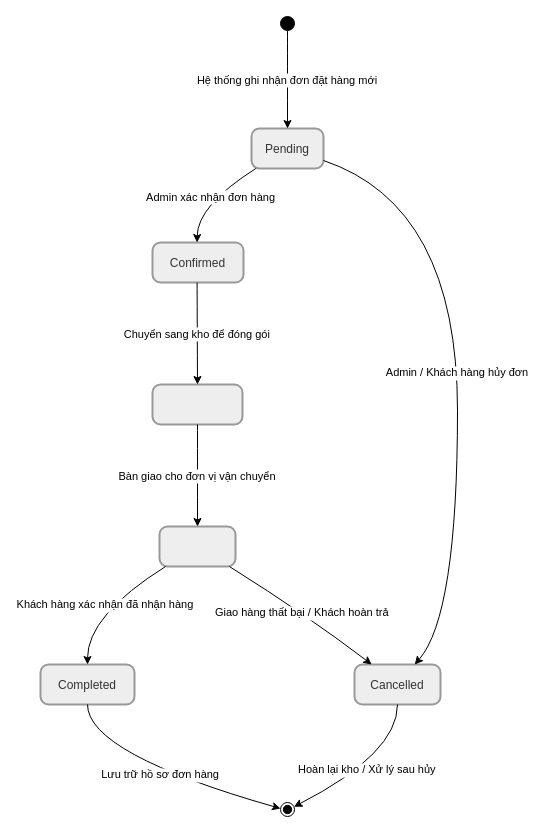
This 546x833 diagram has some shape labels left out. The shapes that lost their labels are listed below. From the top down, each one's centre as x and y in pixels, then its label:
the point at 197,404: Processing
the point at 197,546: Shipping
